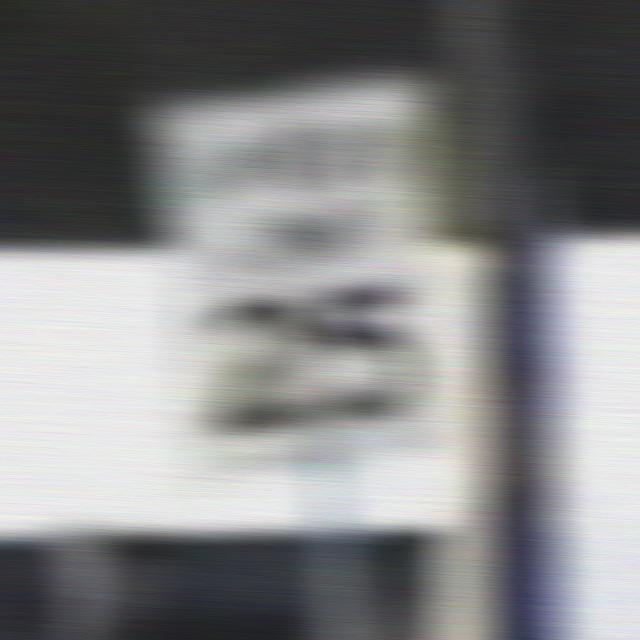speedLimit25: (146, 84, 448, 453)
